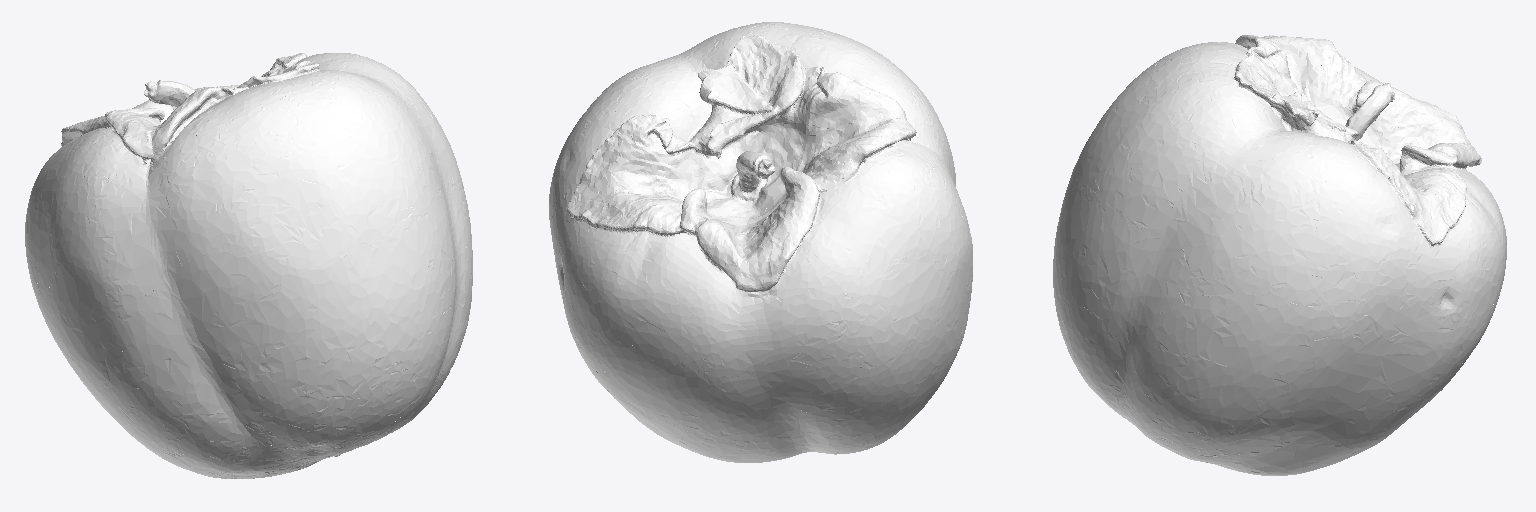
Rendered from Persimmon-whole-fruit-revised.obj.
3 renders of one model, left to right at view 1: azimuth 30°, elevation 25°; view 2: azimuth 150°, elevation 25°; view 3: azimuth 270°, elevation 25°, orthographic.
Size of the model in its own units: 79.05 by 78.42 by 81.46.